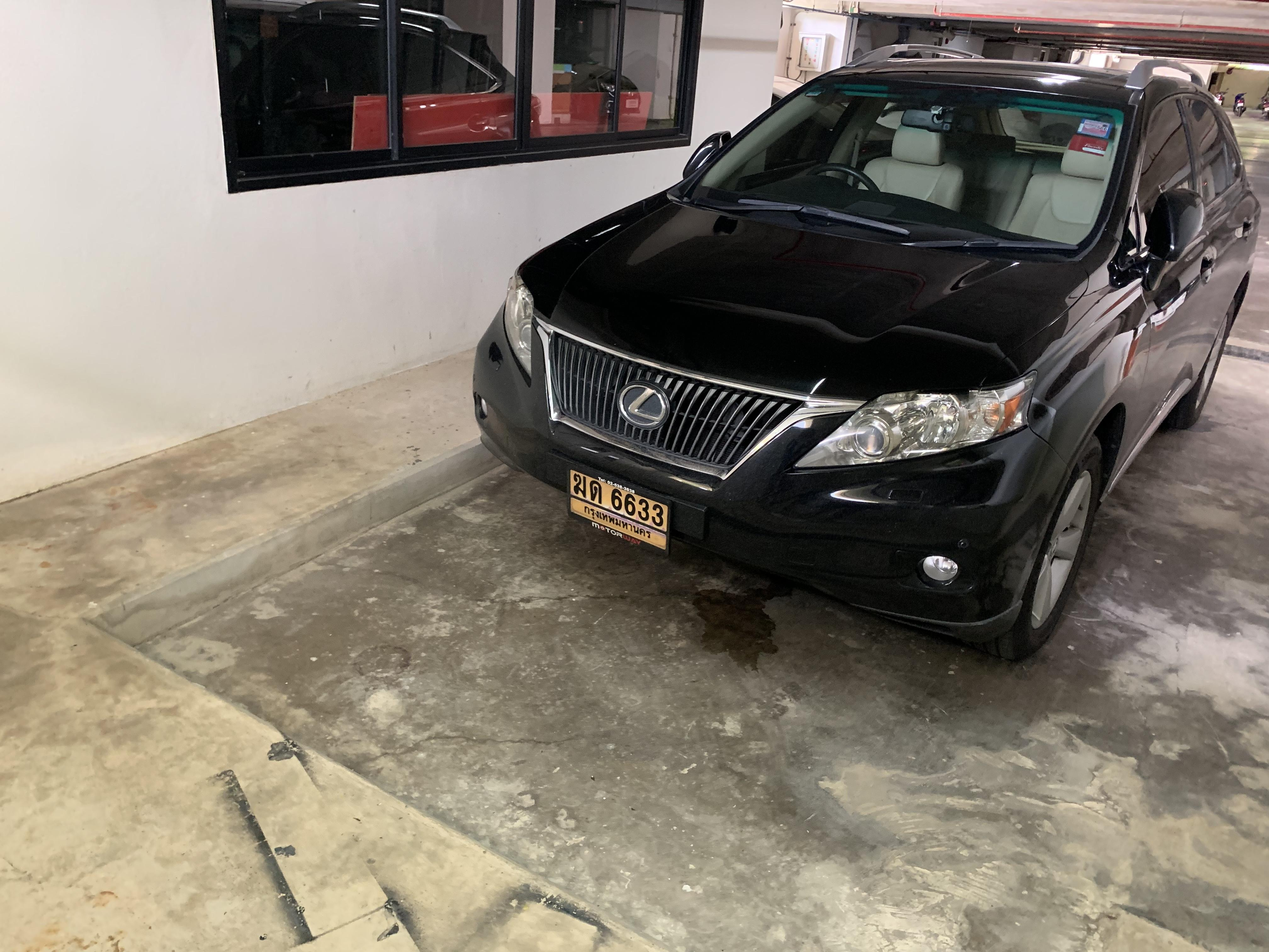license-plate: (564, 460, 674, 561)
